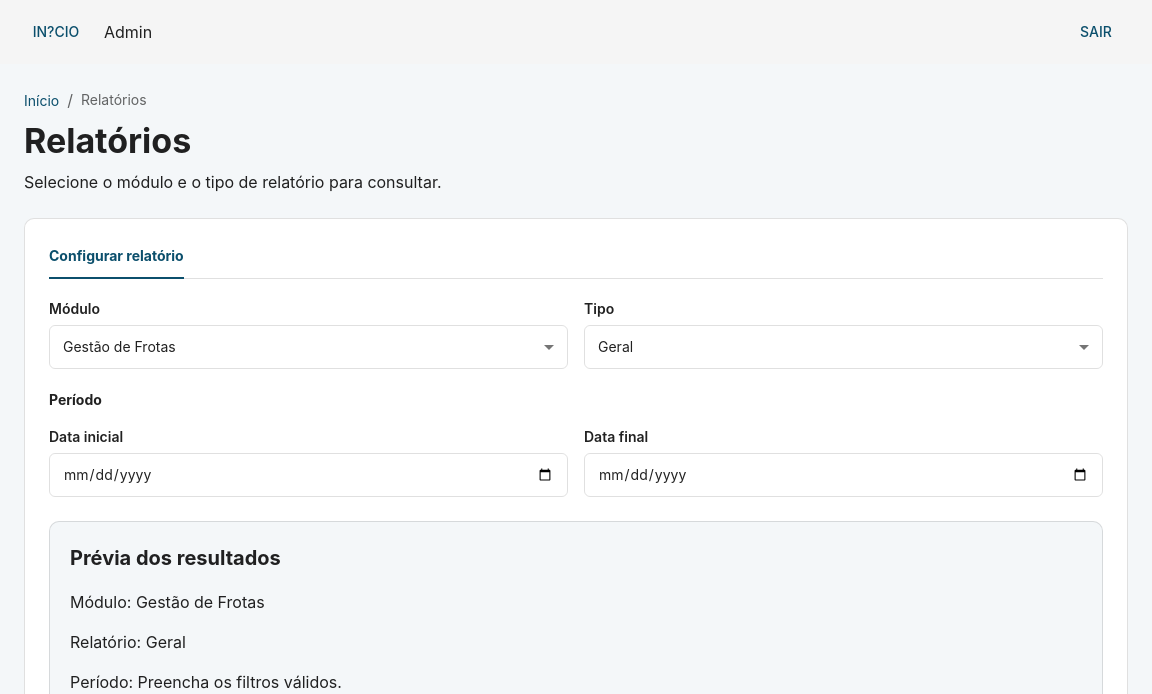
Test: encerra a sessão quando a consulta retorna 401 para o token atual
This screenshot has width=1152, height=694.
Select "Individual" in the dropdown labelled "Tipo" at x=844, y=347, box [584,325,1103,369]
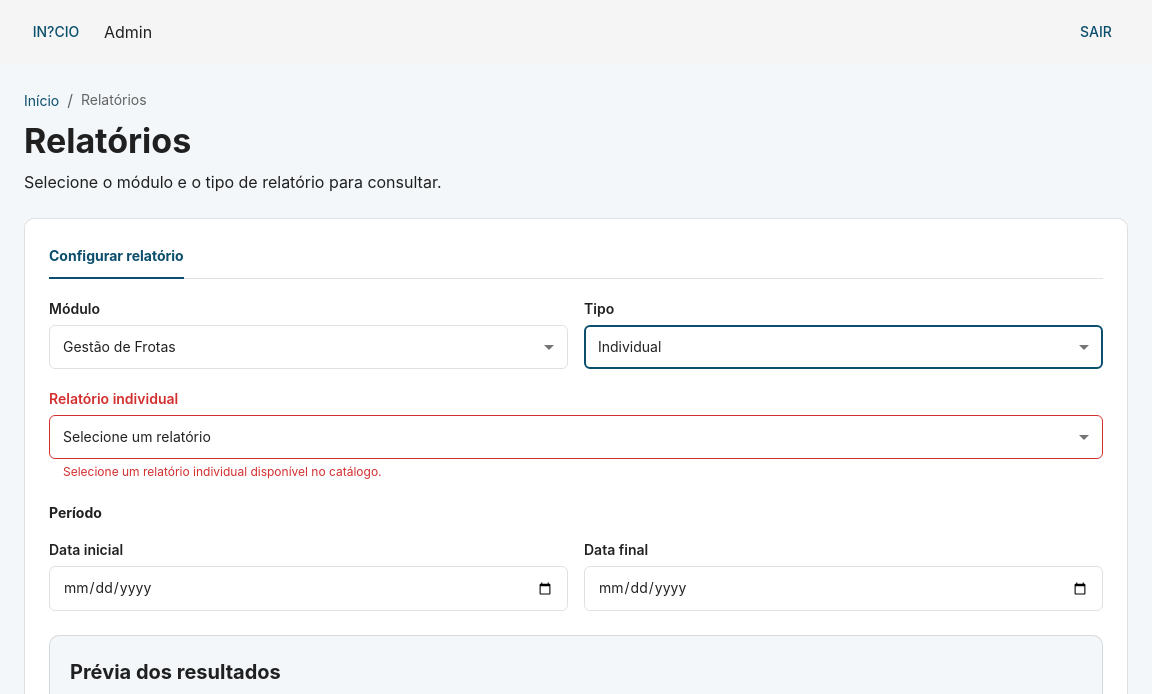
Select "Abastecimentos" in the dropdown labelled "Relatório individual" at x=576, y=437, box [49,415,1103,459]
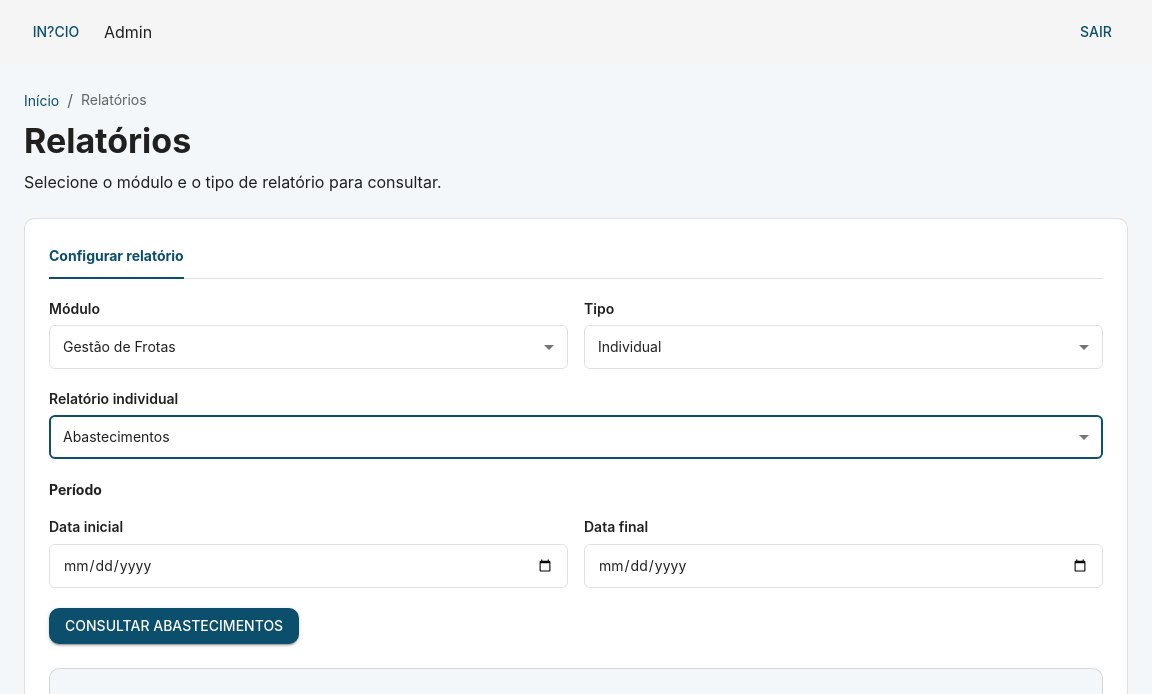
Type "2026-11-01" into the date field labelled "Data inicial" at x=308, y=566, box [49,544,568,588]
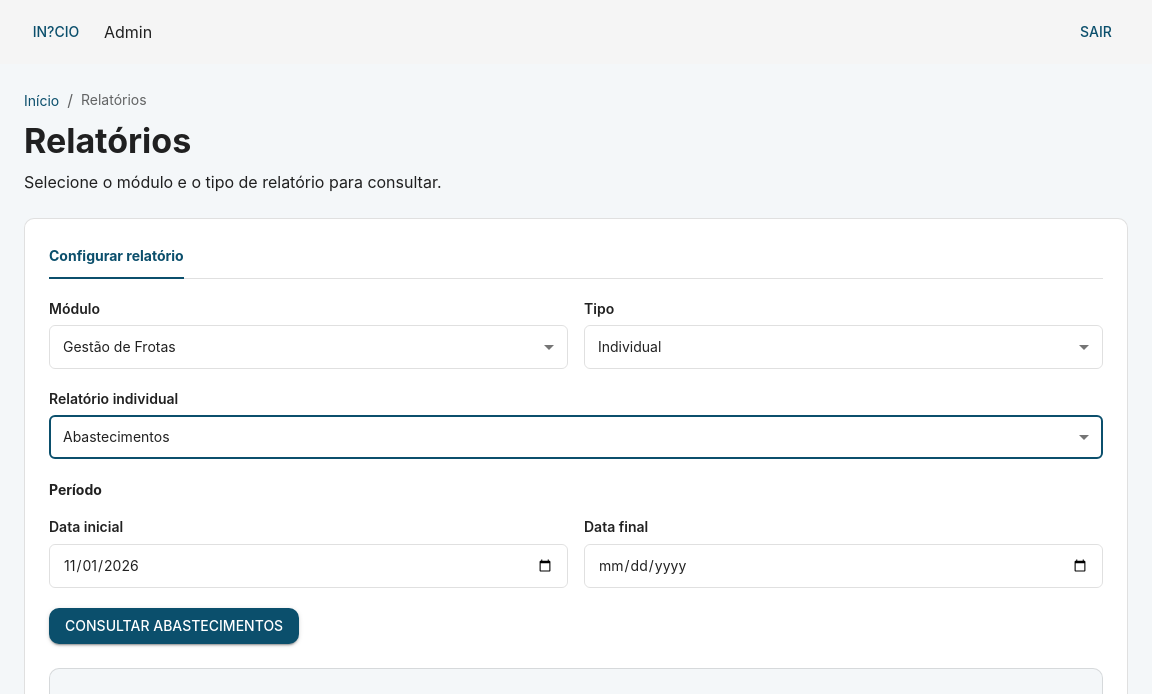
Type "2026-11-14" into the date field labelled "Data final" at x=844, y=566, box [584,544,1103,588]
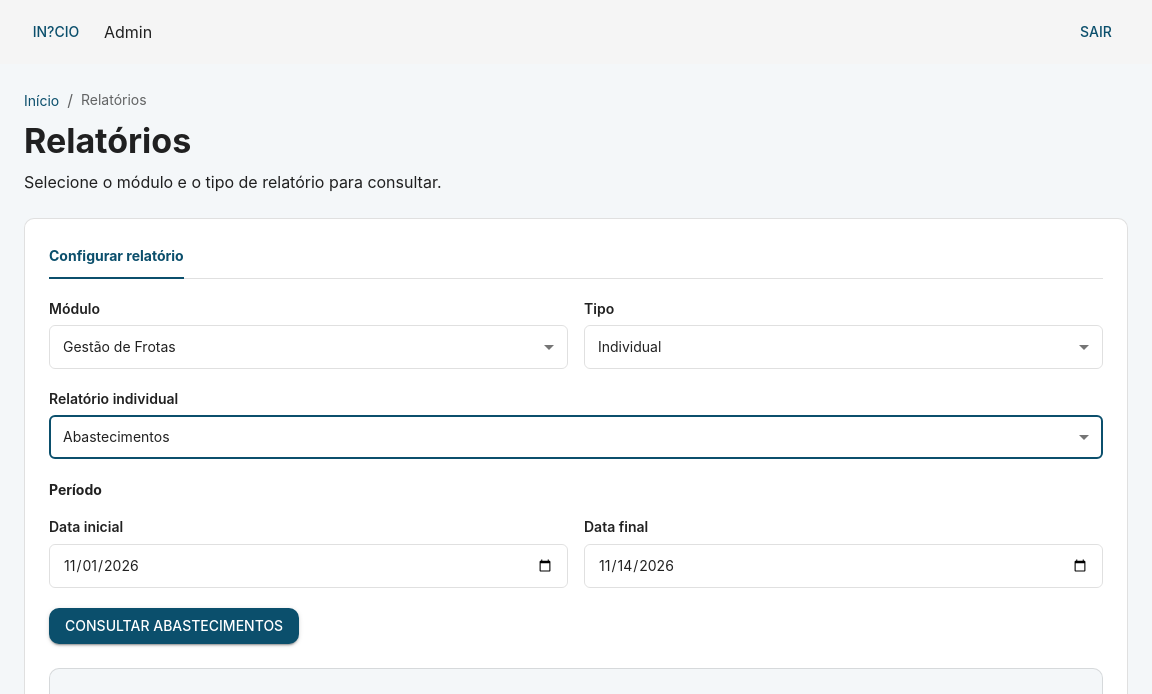
Click the button "Consultar abastecimentos" at x=174, y=626, box [49,608,299,644]
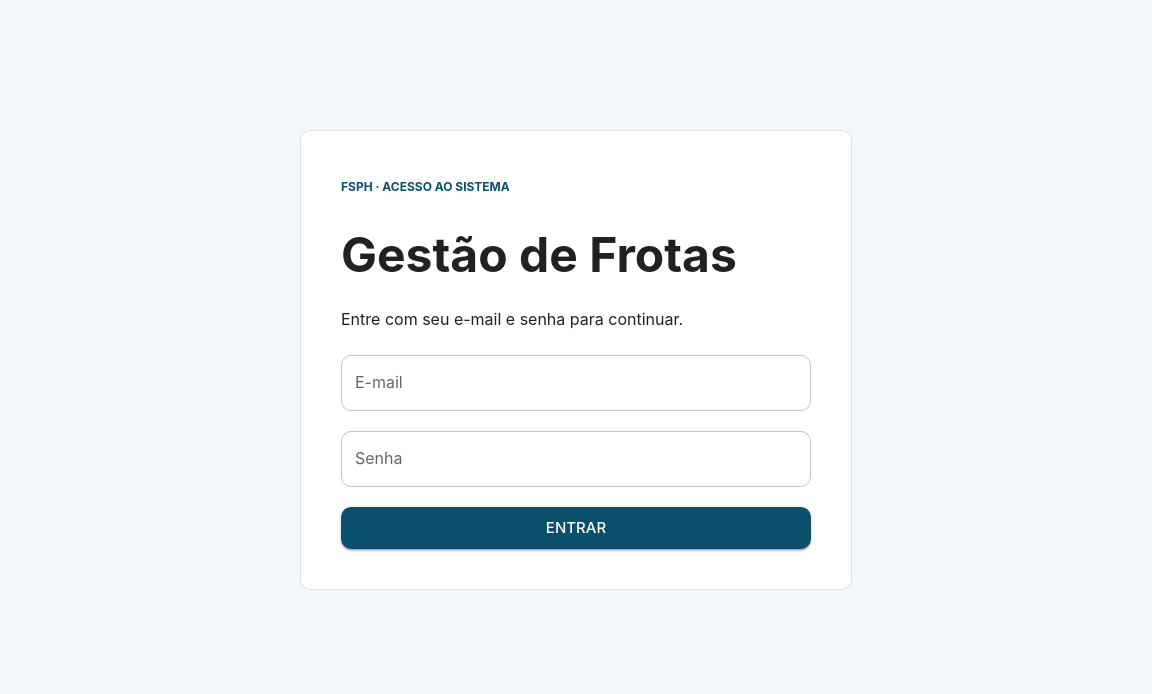
Check: the button "Entrar" is shown, box [341,507,811,549]
